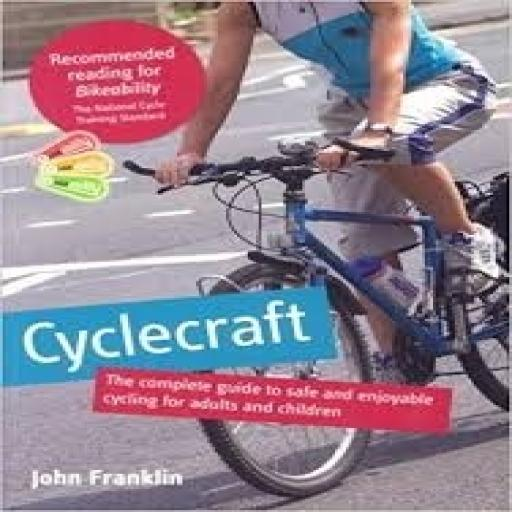cycling: (150, 0, 509, 380)
